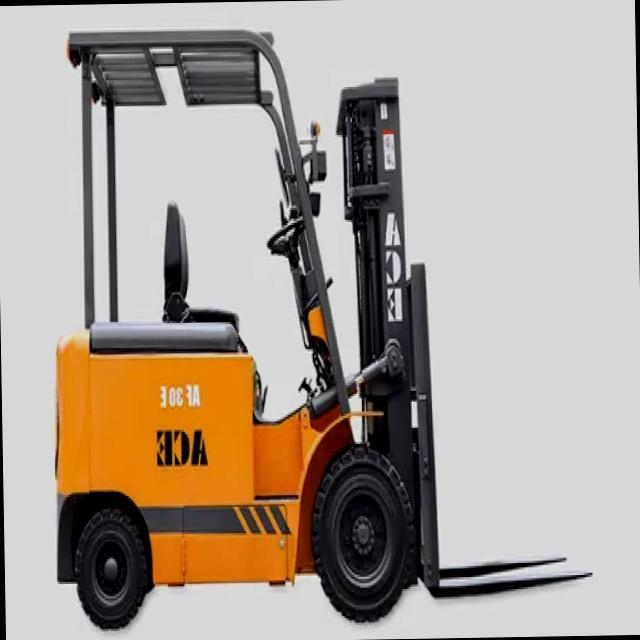forklift: (39, 13, 468, 628)
